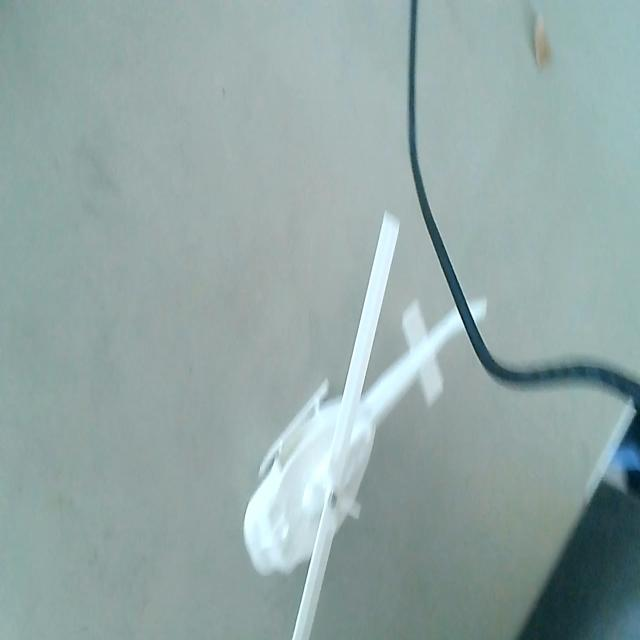Helicopter: (245, 212, 454, 640)
